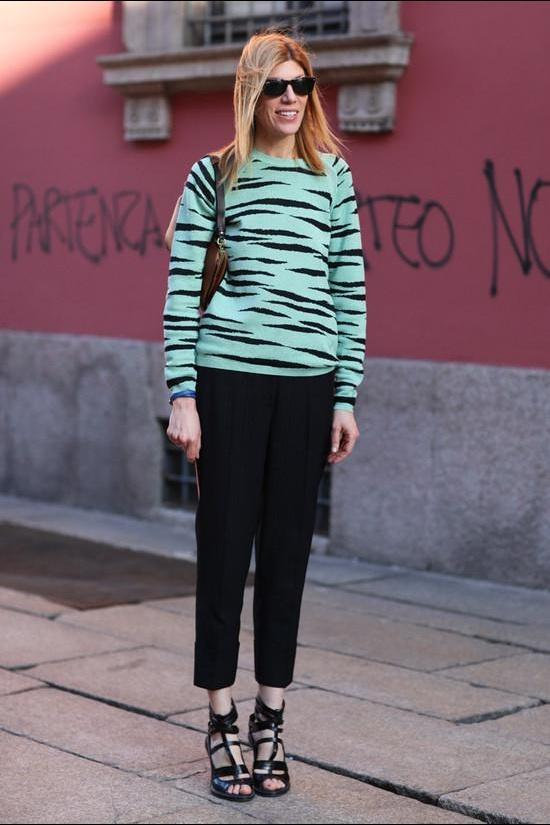pants: (194, 362, 336, 689)
sweater: (162, 146, 368, 410)
